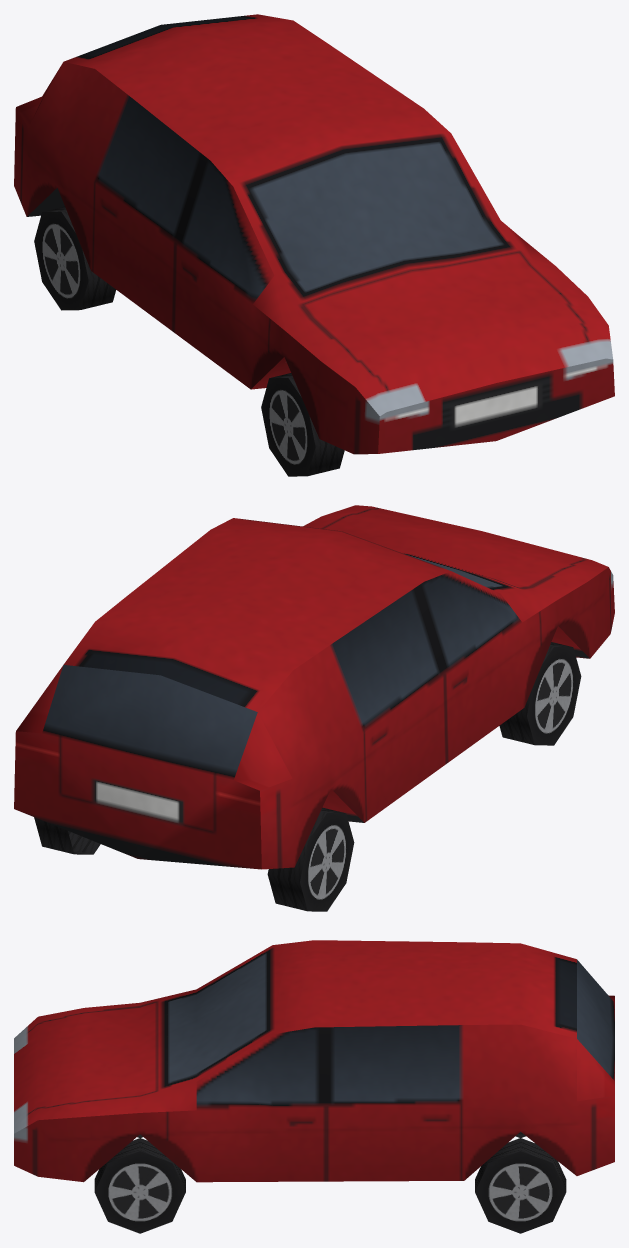
Rendered from SM_Morin_Auto_A_Col_v2_Rosso_LOD2.fbx.
The picture shows the model from 3 angles, top to bottom: view 1: azimuth 30°, elevation 25°; view 2: azimuth 150°, elevation 25°; view 3: azimuth 270°, elevation 25°; orthographic projection. The views are drawn at different scales.
Parts seen in each view (by area): view 1: SM_Morin_Auto_A_Col_v2_Rosso_LOD2; view 2: SM_Morin_Auto_A_Col_v2_Rosso_LOD2; view 3: SM_Morin_Auto_A_Col_v2_Rosso_LOD2.
Part boxes in pixels (x1,y1,x2,y2): SM_Morin_Auto_A_Col_v2_Rosso_LOD2: [14, 14, 614, 476]; SM_Morin_Auto_A_Col_v2_Rosso_LOD2: [14, 505, 614, 911]; SM_Morin_Auto_A_Col_v2_Rosso_LOD2: [14, 940, 614, 1233].
Size of the model in its own units: 174 by 395 by 150.
Materials: 1 (1 with a texture image).
